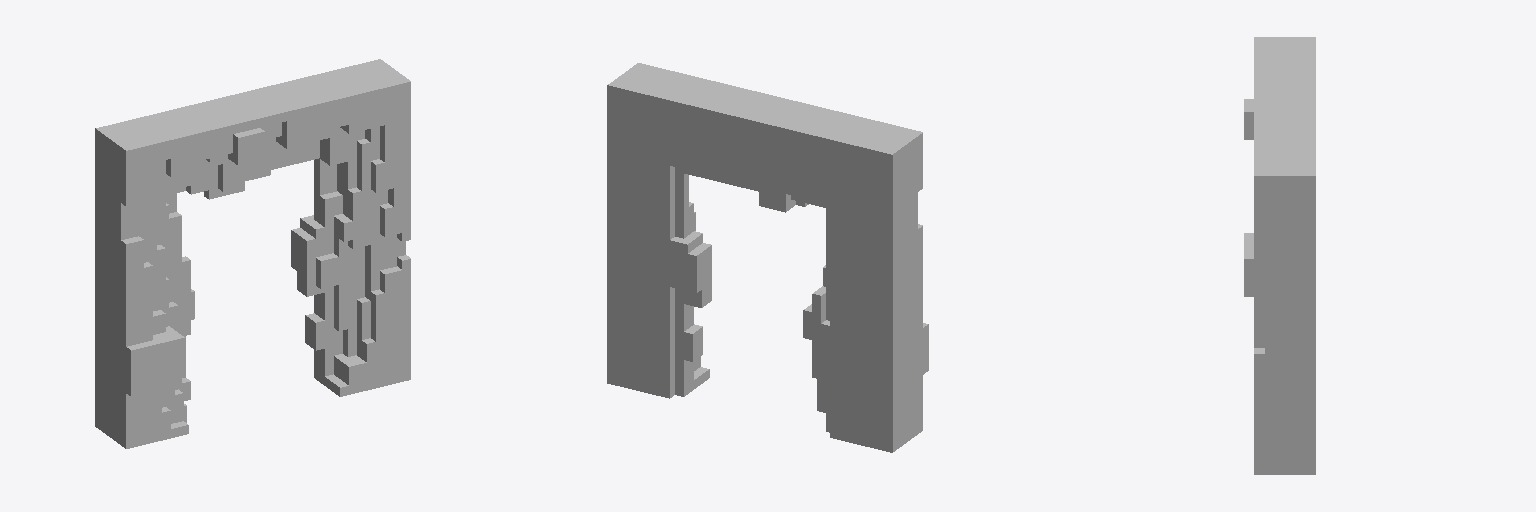
The model's file is horseshoe1.obj.
3 renders of one model, left to right at view 1: azimuth 30°, elevation 25°; view 2: azimuth 150°, elevation 25°; view 3: azimuth 270°, elevation 25°, orthographic.
Bounding box in the file's own units: 32 × 32 × 7.